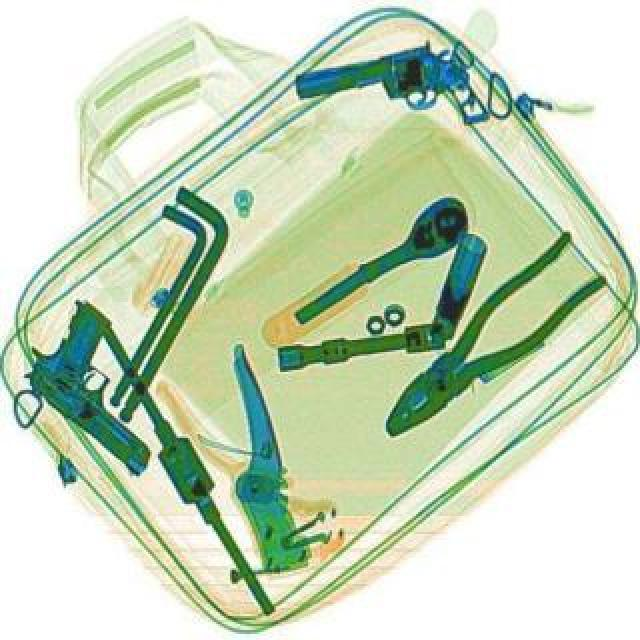gun: (4, 294, 212, 474), (288, 30, 490, 162)
wrench: (356, 230, 618, 452)
